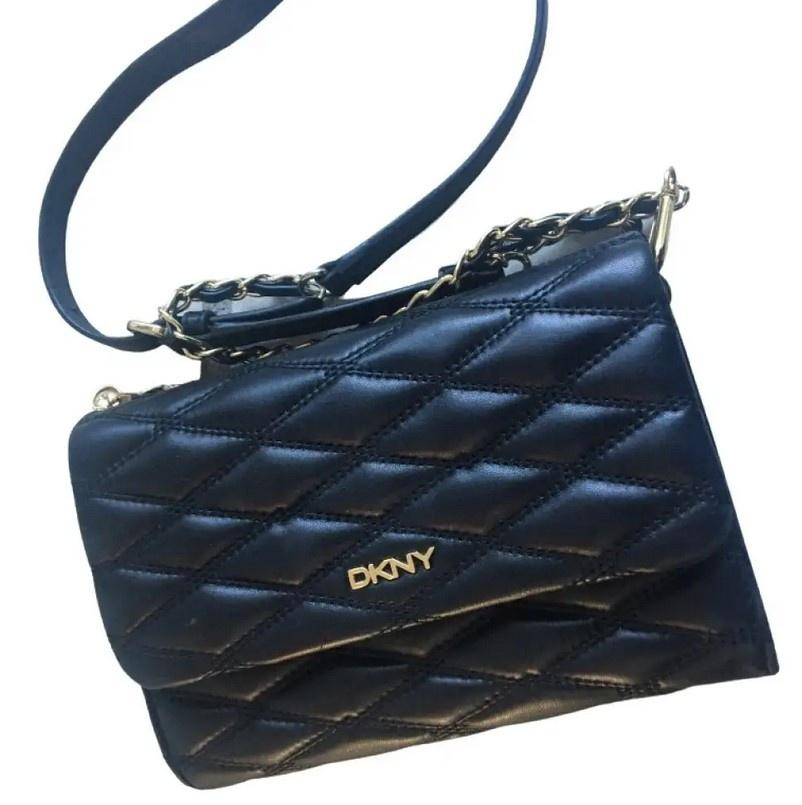DKNY: (348, 546, 435, 590)
